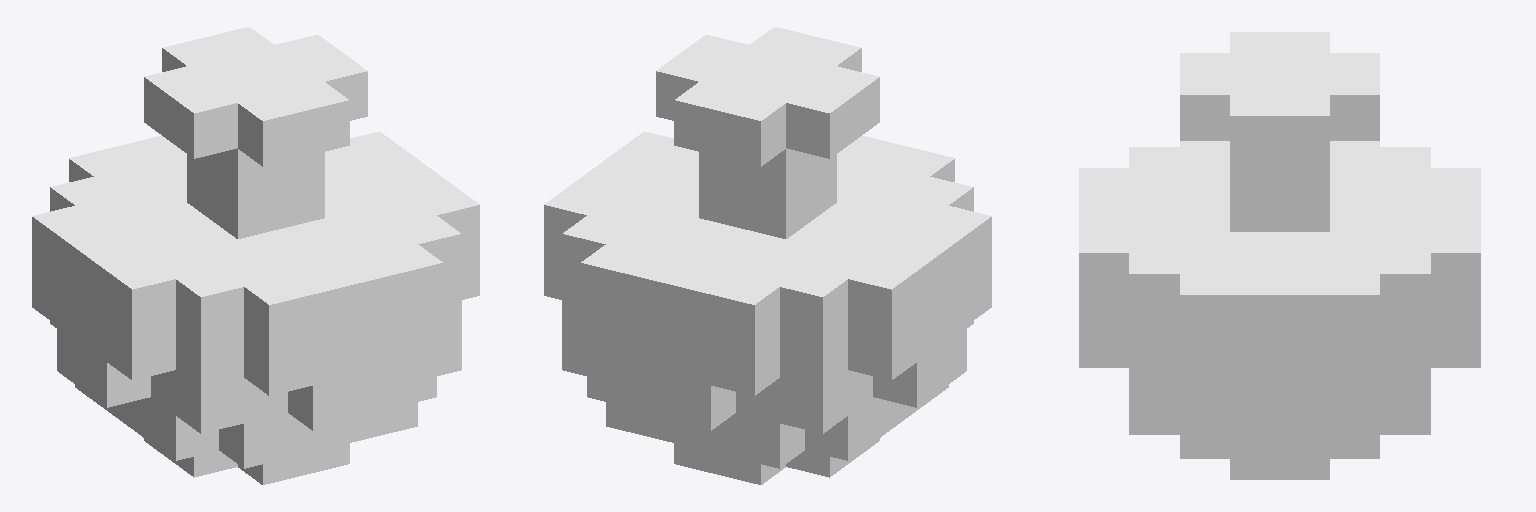
File: meadingredient.obj
3 views of the same model, side by side, from view 1: azimuth 30°, elevation 25°; view 2: azimuth 150°, elevation 25°; view 3: azimuth 270°, elevation 25° (orthographic).
Parts seen in each view (by area): view 1: object 1; view 2: object 1; view 3: object 1.
Part boxes in pixels (left/top/right/bottom): object 1: left=32, top=27, right=479, bottom=484; object 1: left=544, top=27, right=991, bottom=484; object 1: left=1079, top=32, right=1480, bottom=479.
Bounding box in the file's own units: 0.8 × 0.8 × 0.8.